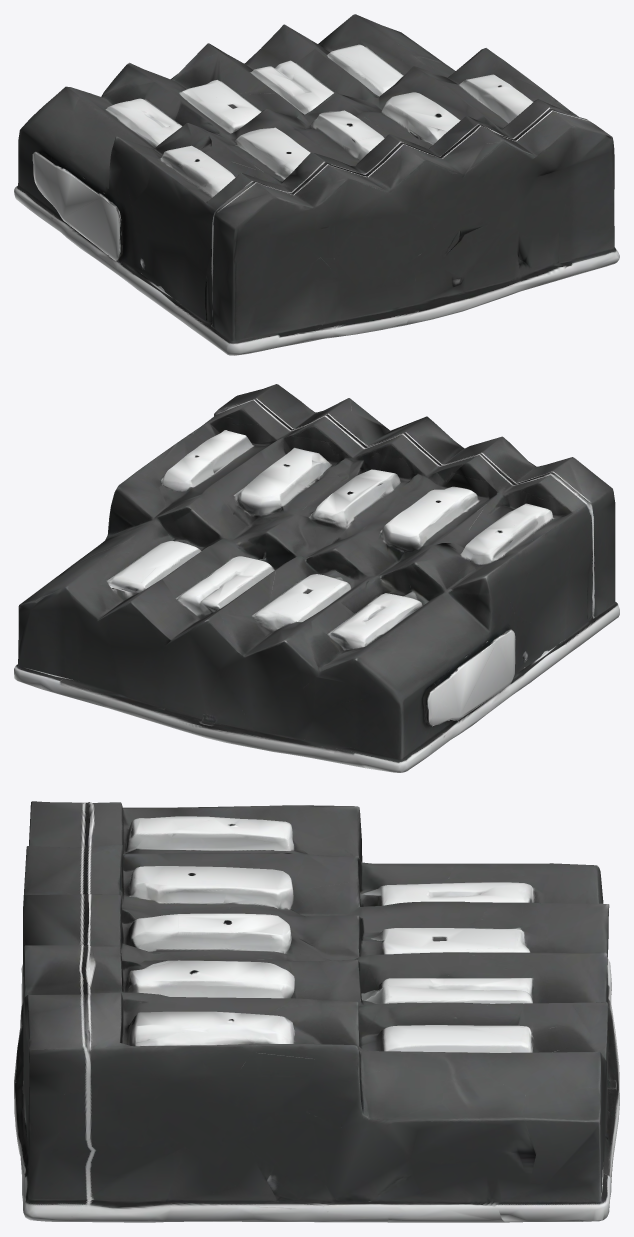
The model's file is chorus.glb.
3 renders of one model, top to bottom at view 1: azimuth 30°, elevation 25°; view 2: azimuth 150°, elevation 25°; view 3: azimuth 270°, elevation 25°, orthographic. The views are drawn at different scales.
Size of the model in its own units: 2 by 0.7711 by 2.
Materials: 1 (1 with a texture image).
